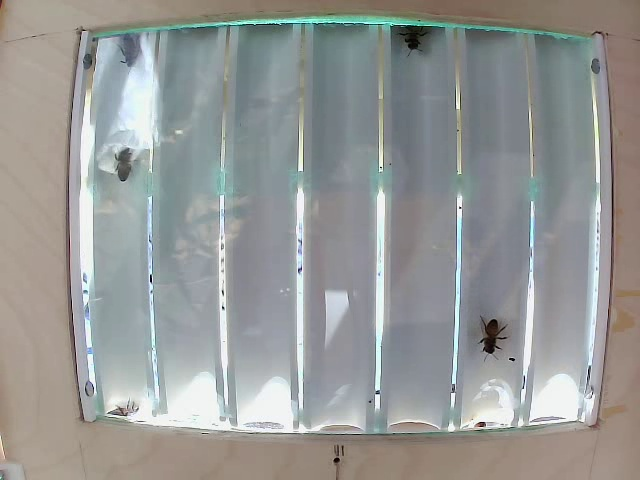bee: (113, 38, 165, 79), (104, 139, 145, 190), (472, 312, 510, 356), (395, 18, 431, 55)
